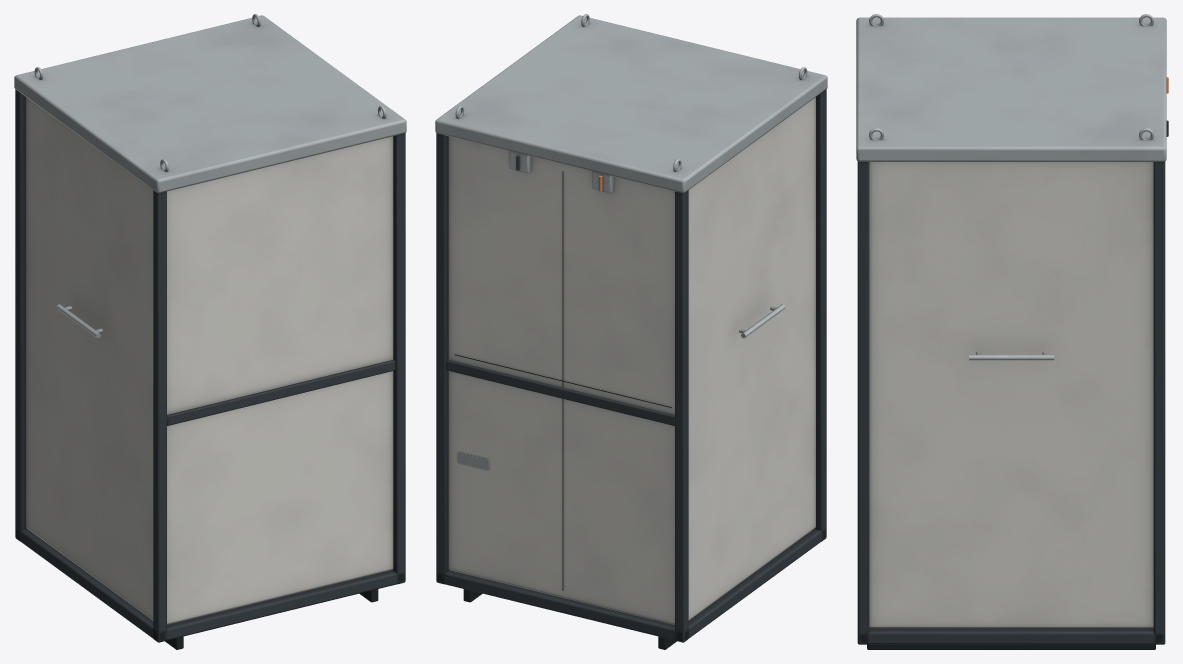
Rendered from precursor_crate_tall.glb.
3 renders of one model, left to right at view 1: azimuth 30°, elevation 25°; view 2: azimuth 150°, elevation 25°; view 3: azimuth 270°, elevation 25°, orthographic. The views are drawn at different scales.
Parts seen in each view (by area): view 1: body_shell_white, lid_panel_cool, base_frame_graphite, post_lb_frame_graphite, post_rb_frame_graphite, post_lf_frame_graphite, rail_b_frame_graphite; view 2: body_shell_white, lid_panel_cool, base_frame_graphite, post_lf_frame_graphite, post_rf_frame_graphite, post_lb_frame_graphite, rail_f_frame_graphite, front_seams_deep_graphite; view 3: body_shell_white, lid_panel_cool, post_rb_frame_graphite, post_rf_frame_graphite, base_frame_graphite, skid_r_deep_graphite, end_handle_r_satin_alloy.
Part boxes in pixels (x1,y1,x2,y2): body_shell_white: (26,97,393,624); lid_panel_cool: (14,15,406,193); base_frame_graphite: (16,529,404,640); post_lb_frame_graphite: (153,190,166,642); post_rb_frame_graphite: (392,133,405,584); post_lf_frame_graphite: (15,89,26,540); rail_b_frame_graphite: (167,360,395,425); body_shell_white: (448,97,815,624); lid_panel_cool: (435,15,827,193); base_frame_graphite: (437,529,825,640); post_lf_frame_graphite: (675,190,688,642); post_rf_frame_graphite: (436,133,449,584); post_lb_frame_graphite: (815,89,826,540); rail_f_frame_graphite: (446,360,674,425); front_seams_deep_graphite: (454,171,671,590); body_shell_white: (869,162,1153,628); lid_panel_cool: (856,17,1166,161); post_rb_frame_graphite: (857,161,869,644); post_rf_frame_graphite: (1153,161,1165,644); base_frame_graphite: (860,628,1162,644); skid_r_deep_graphite: (867,644,1155,649); end_handle_r_satin_alloy: (969,351,1054,360).
Bounding box in the file's own units: 1.4 × 2.45 × 1.32.
2 materials, 1 textured.
